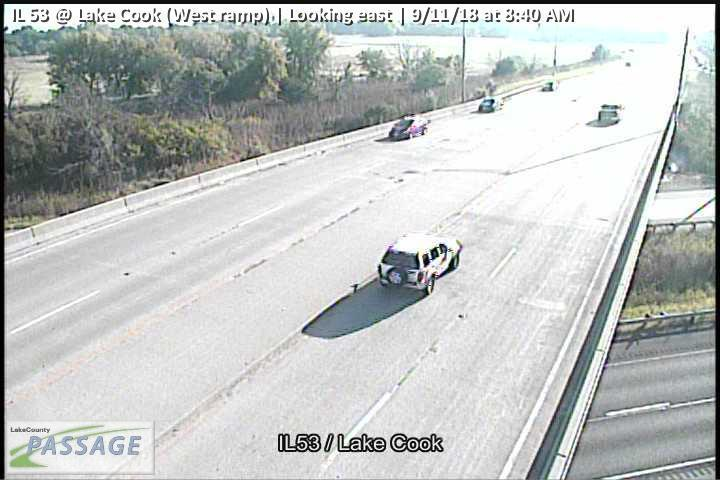SUV: (377, 232, 463, 298), (389, 118, 431, 142)
Sedan: (479, 97, 504, 112)
Truck: (598, 103, 625, 124)
